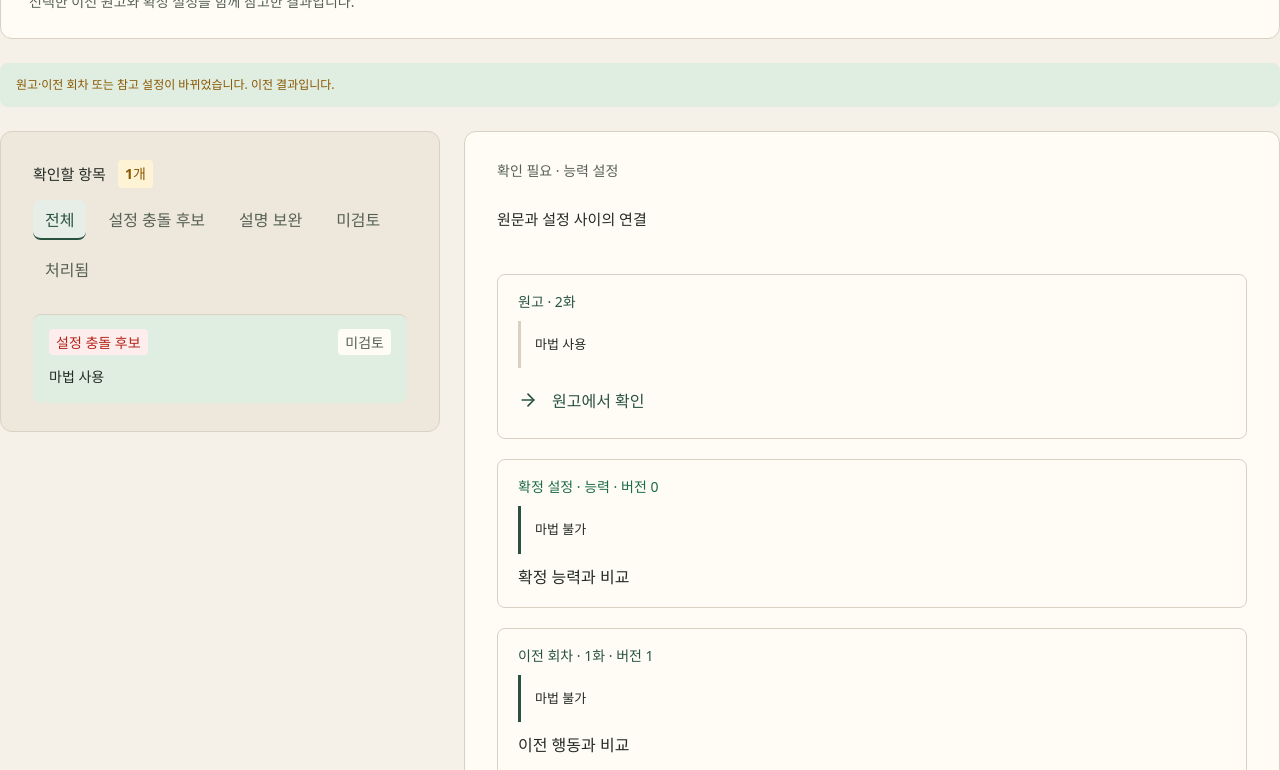
Test: 편집된 원고에서 인용 위치가 바뀌면 안내를 표시하고 원고를 덮어쓰지 않는다
The image size is (1280, 770).
(page scrolled)
Check: the text "원고·이전 회차 또는 참고 설정이 바뀌었습니다. 이전 결과입니다." is shown, box x1=0 y1=62 x2=1279 y2=107
Click the button "원고에서 확인" at (588, 400), box x1=518 y1=378 x2=658 y2=422
(page scrolled)
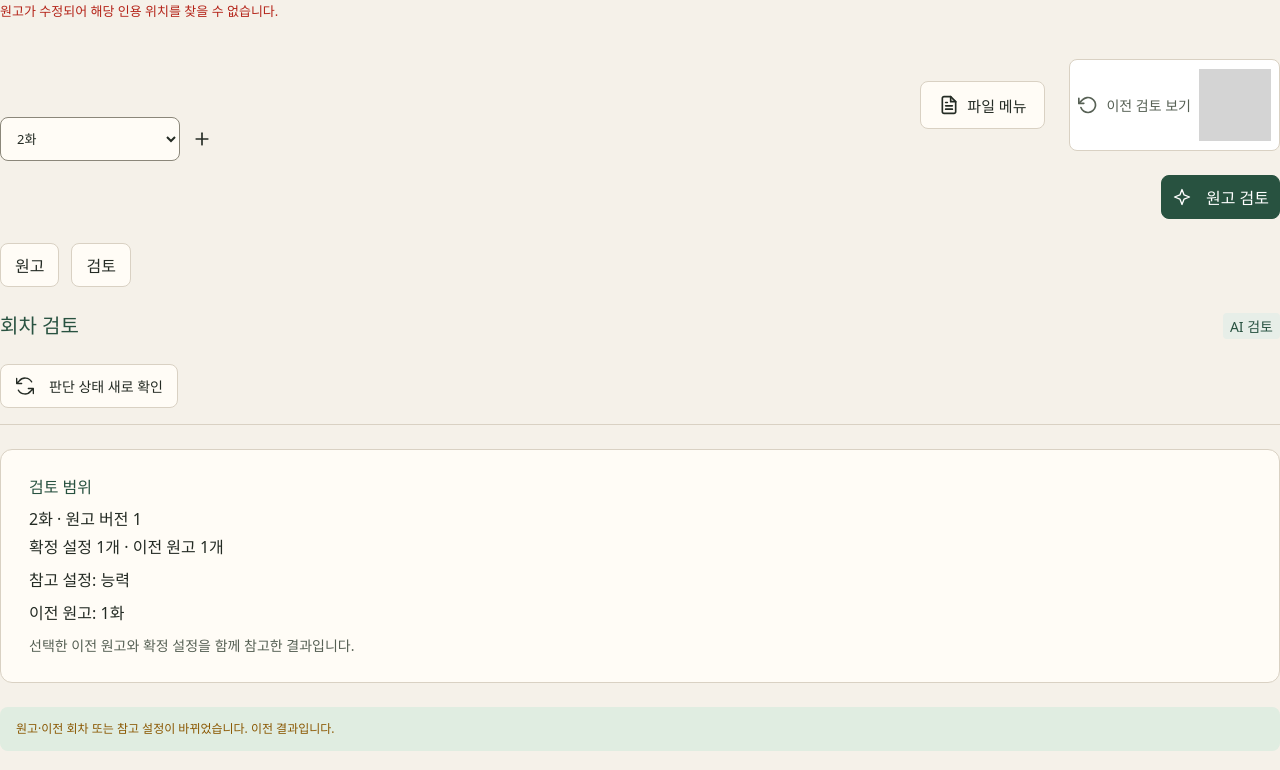
Check: the text "원고가 수정되어 해당 인용 위치를 찾을 수 없습니다." is shown, box x1=0 y1=2 x2=278 y2=20
